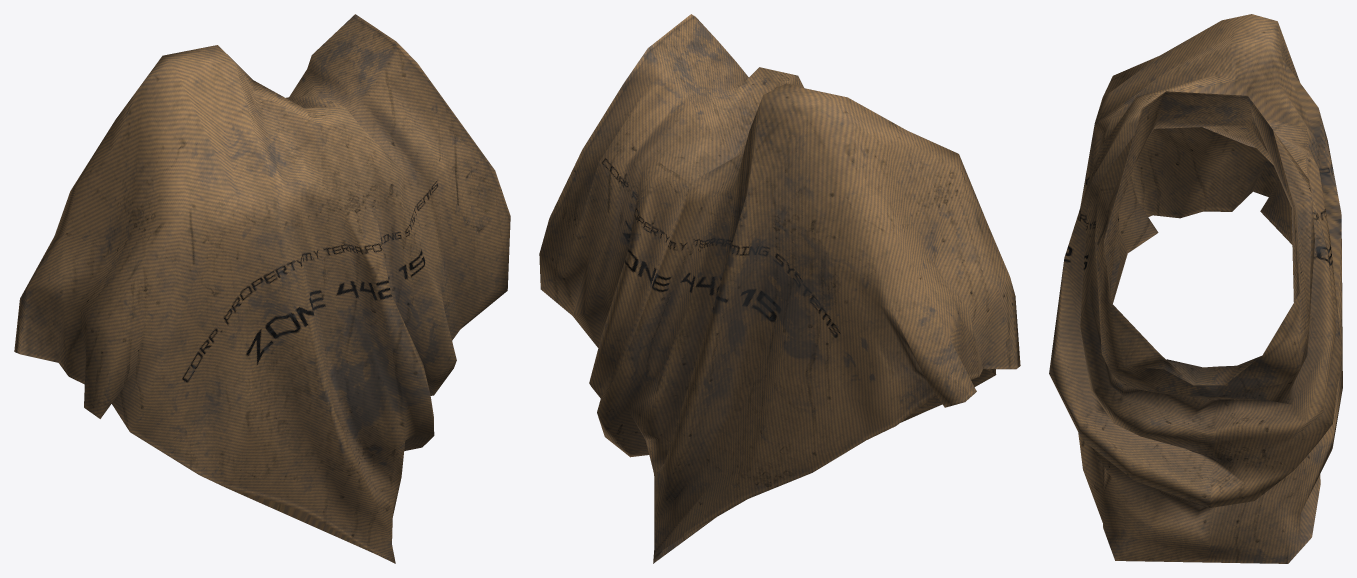
Rendered from Antenna_06_Tilt_L1.fbx.
3 views of the same model, side by side, from view 1: azimuth 30°, elevation 25°; view 2: azimuth 150°, elevation 25°; view 3: azimuth 270°, elevation 25° (orthographic). The views are drawn at different scales.
Parts seen in each view (by area): view 1: polySurface1602; view 2: polySurface1602; view 3: polySurface1602.
Boxes of the visible parts, left/top/right/bottom form: polySurface1602: left=14, top=14, right=510, bottom=563; polySurface1602: left=539, top=14, right=1020, bottom=563; polySurface1602: left=1049, top=14, right=1342, bottom=563.
Size of the model in its own units: 511 by 575 by 316.
